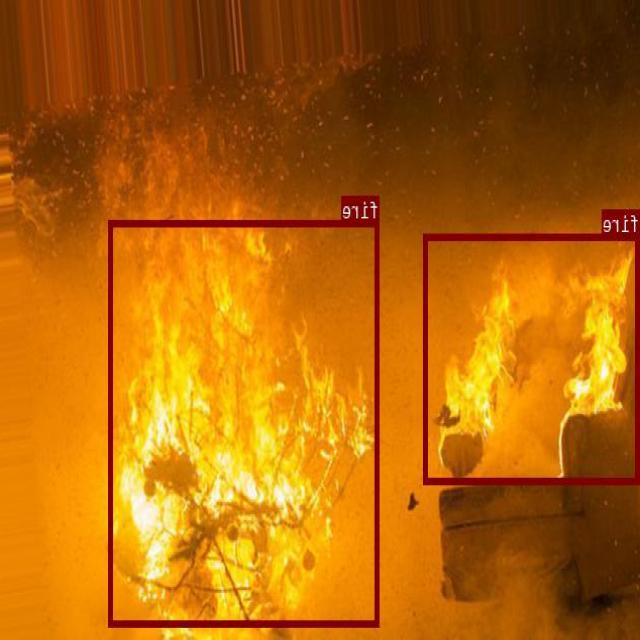fire: (110, 219, 380, 625), (425, 232, 640, 482)
